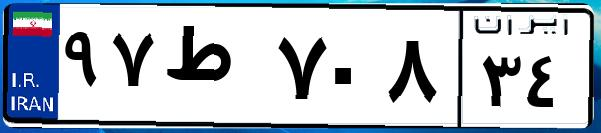0: (330, 28, 385, 110)
3: (475, 38, 525, 113)
4: (525, 38, 570, 115)
7: (270, 28, 330, 110), (110, 28, 158, 98)
8: (385, 28, 445, 110)
9: (57, 26, 110, 100)
ط: (158, 20, 270, 120)
